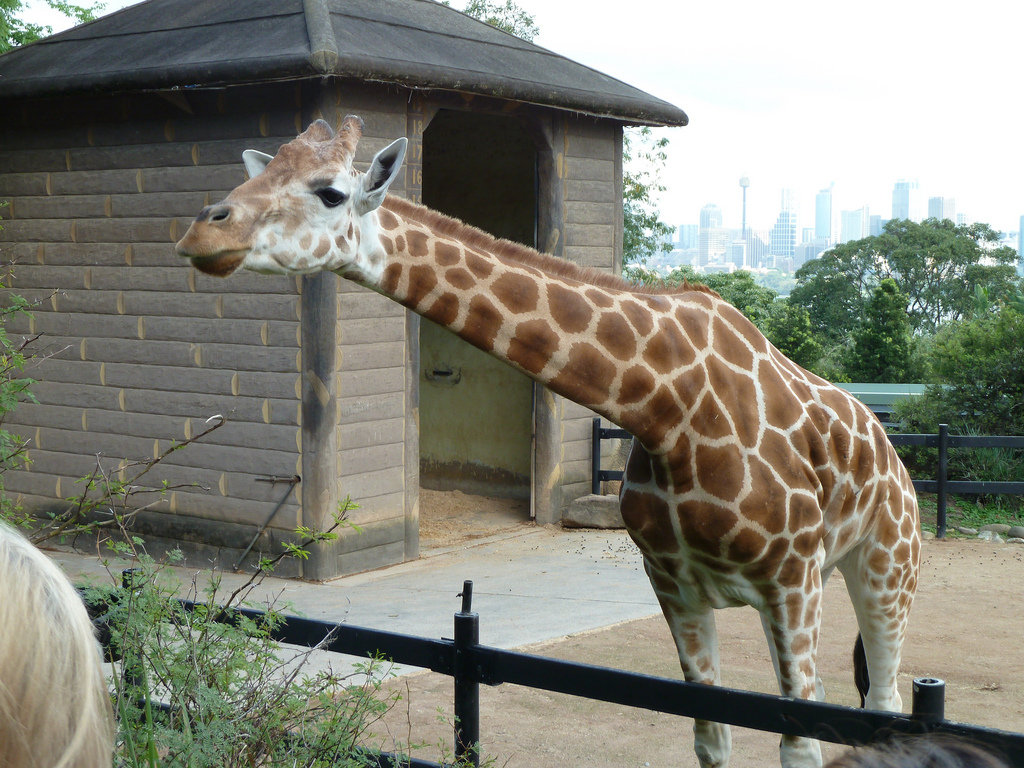giraffe: (158, 113, 995, 727)
